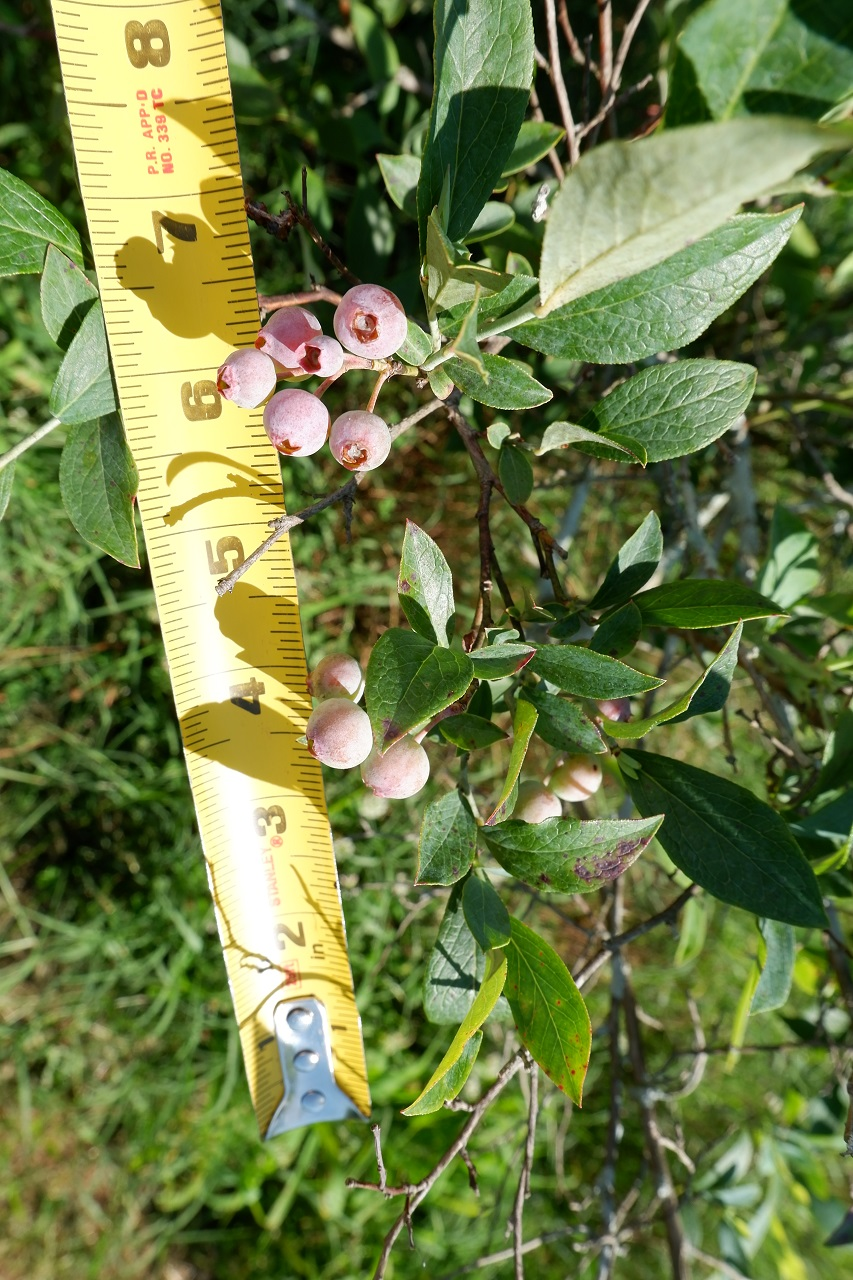Immature: (333, 283, 408, 358), (255, 306, 323, 382), (306, 697, 374, 769), (360, 733, 431, 798), (263, 389, 331, 456), (216, 348, 277, 409), (330, 409, 390, 471), (306, 650, 365, 705), (549, 752, 603, 800), (510, 779, 563, 823), (297, 335, 344, 377), (583, 697, 632, 736)
